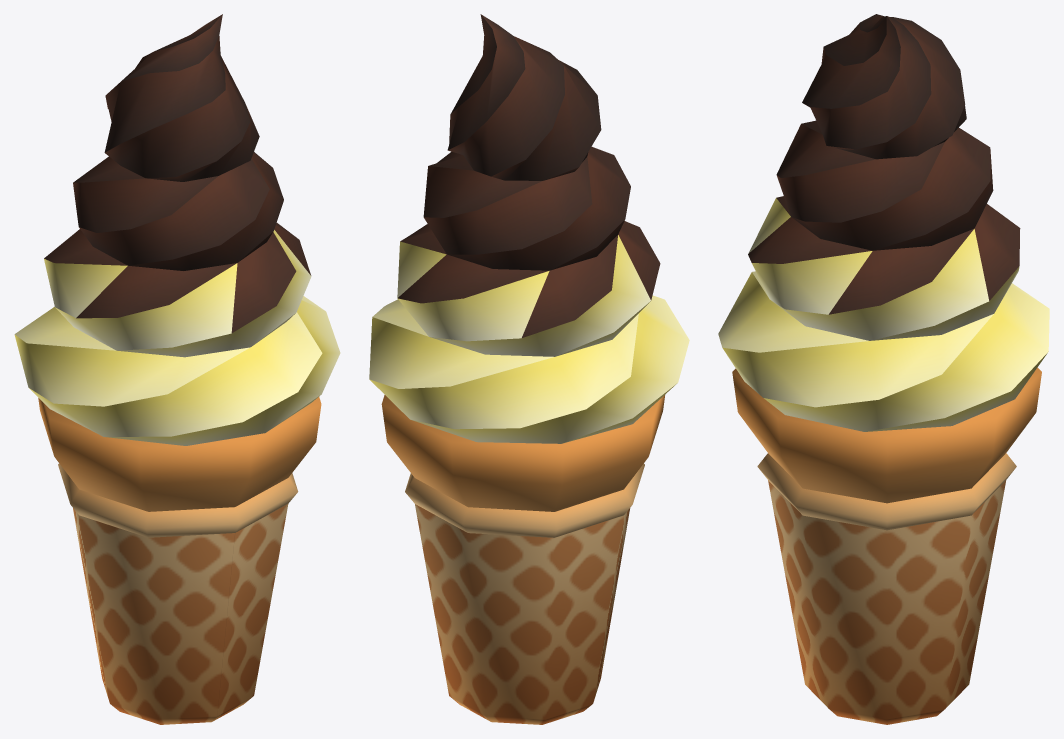
The model's file is m_Softserve12.fbx.
The picture shows the model from 3 angles, left to right: view 1: azimuth 30°, elevation 25°; view 2: azimuth 150°, elevation 25°; view 3: azimuth 270°, elevation 25°; orthographic projection. The views are drawn at different scales.
Parts seen in each view (by area): view 1: m_Softserve12; view 2: m_Softserve12; view 3: m_Softserve12.
Boxes of the visible parts, x1=… form: m_Softserve12: x1=14, y1=14, x2=340, y2=724; m_Softserve12: x1=369, y1=14, x2=689, y2=724; m_Softserve12: x1=718, y1=14, x2=1049, y2=724.
Size of the model in its own units: 11.45 by 26 by 11.13.
